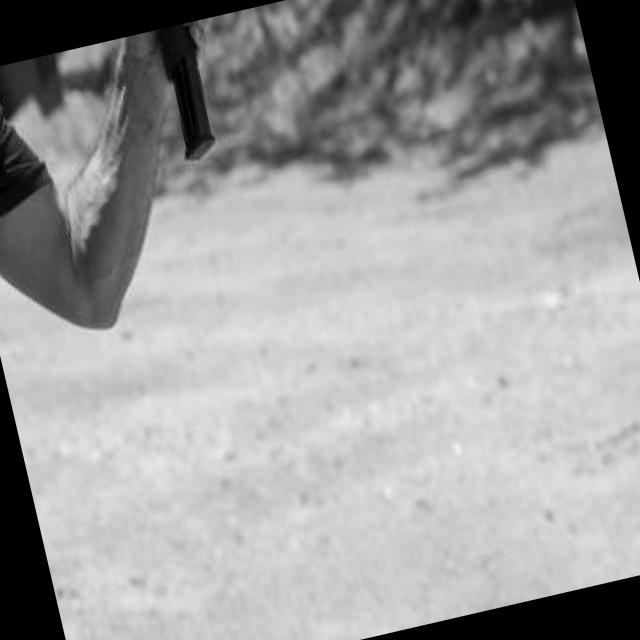Guns: (82, 0, 315, 185)
